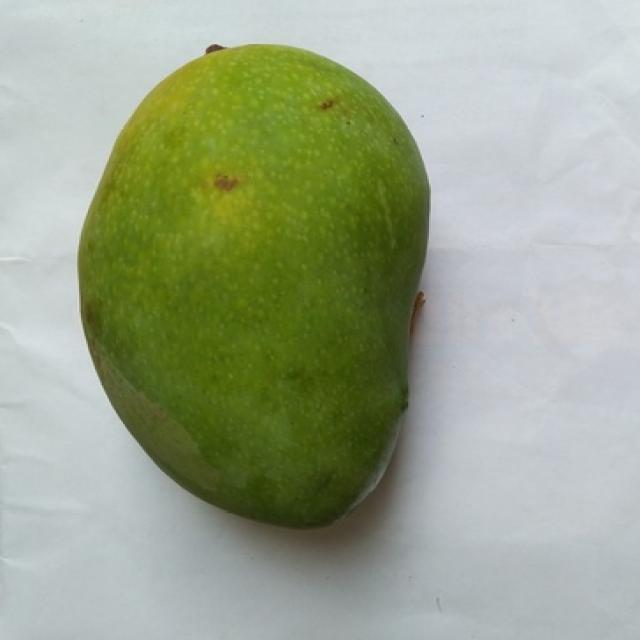Mango: (77, 45, 427, 527)
